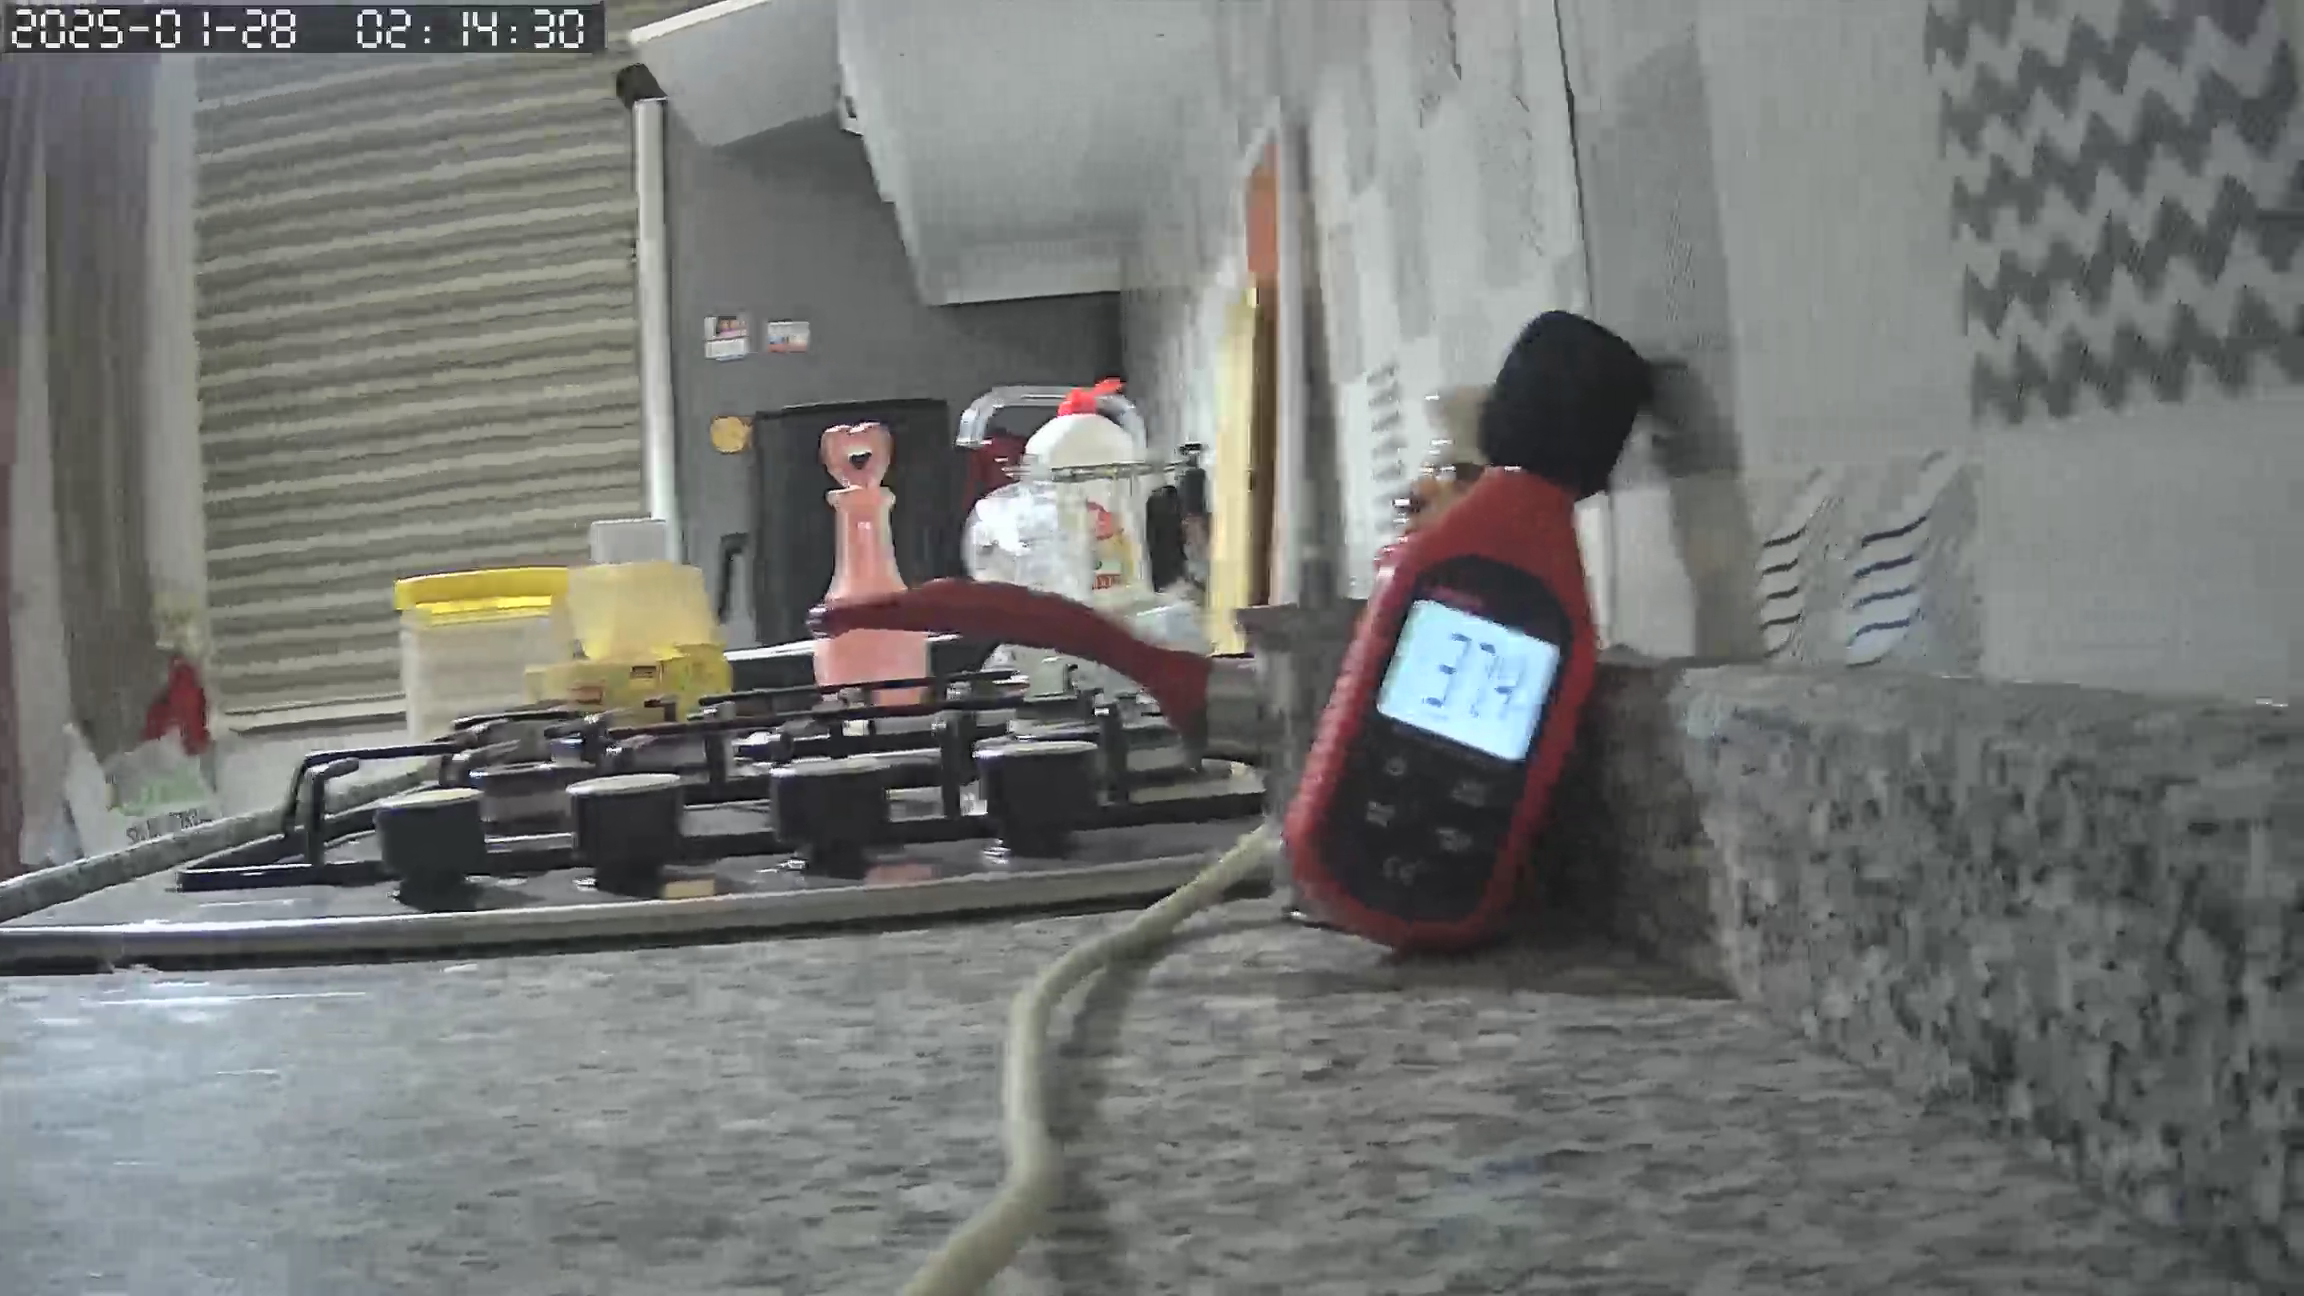screen: (1377, 597, 1559, 760)
